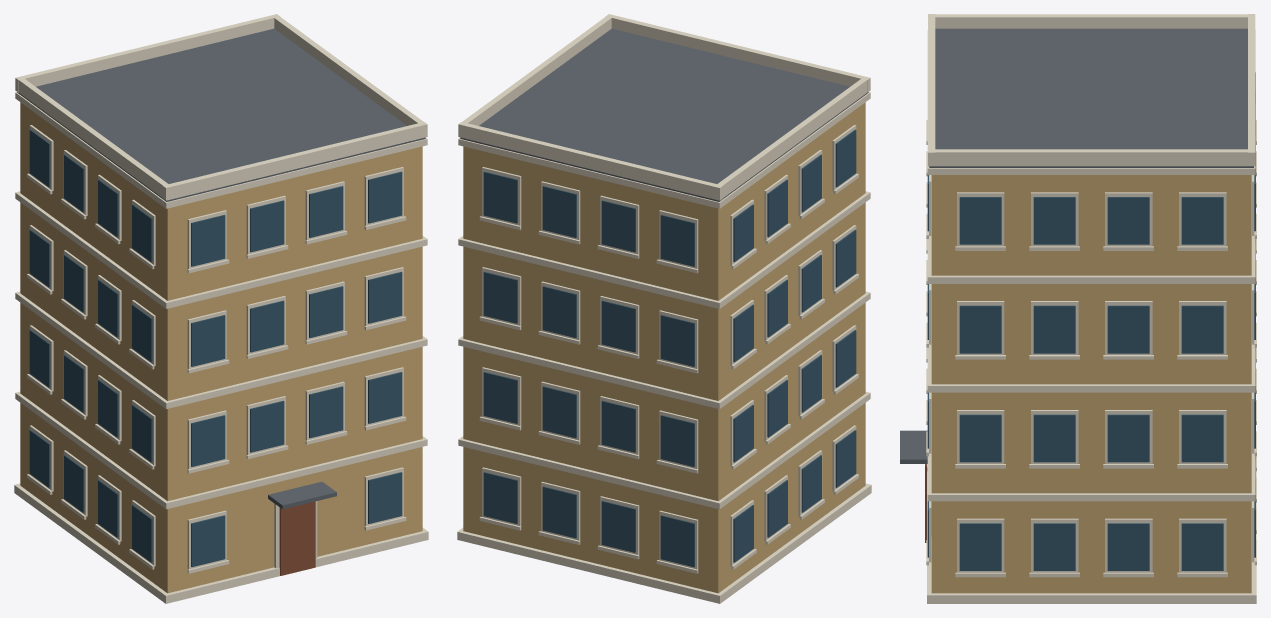
The model's file is 06-square.glb.
3 renders of one model, left to right at view 1: azimuth 30°, elevation 25°; view 2: azimuth 150°, elevation 25°; view 3: azimuth 270°, elevation 25°, orthographic. The views are drawn at different scales.
Parts seen in each view (by area): view 1: 06-square; view 2: 06-square; view 3: 06-square.
Boxes of the visible parts, x1,y1,x2,y2 form: 06-square: (14,14,428,603); 06-square: (457,14,871,603); 06-square: (900,14,1256,603).
Bounding box in the file's own units: 8.26 × 12.44 × 8.92.
